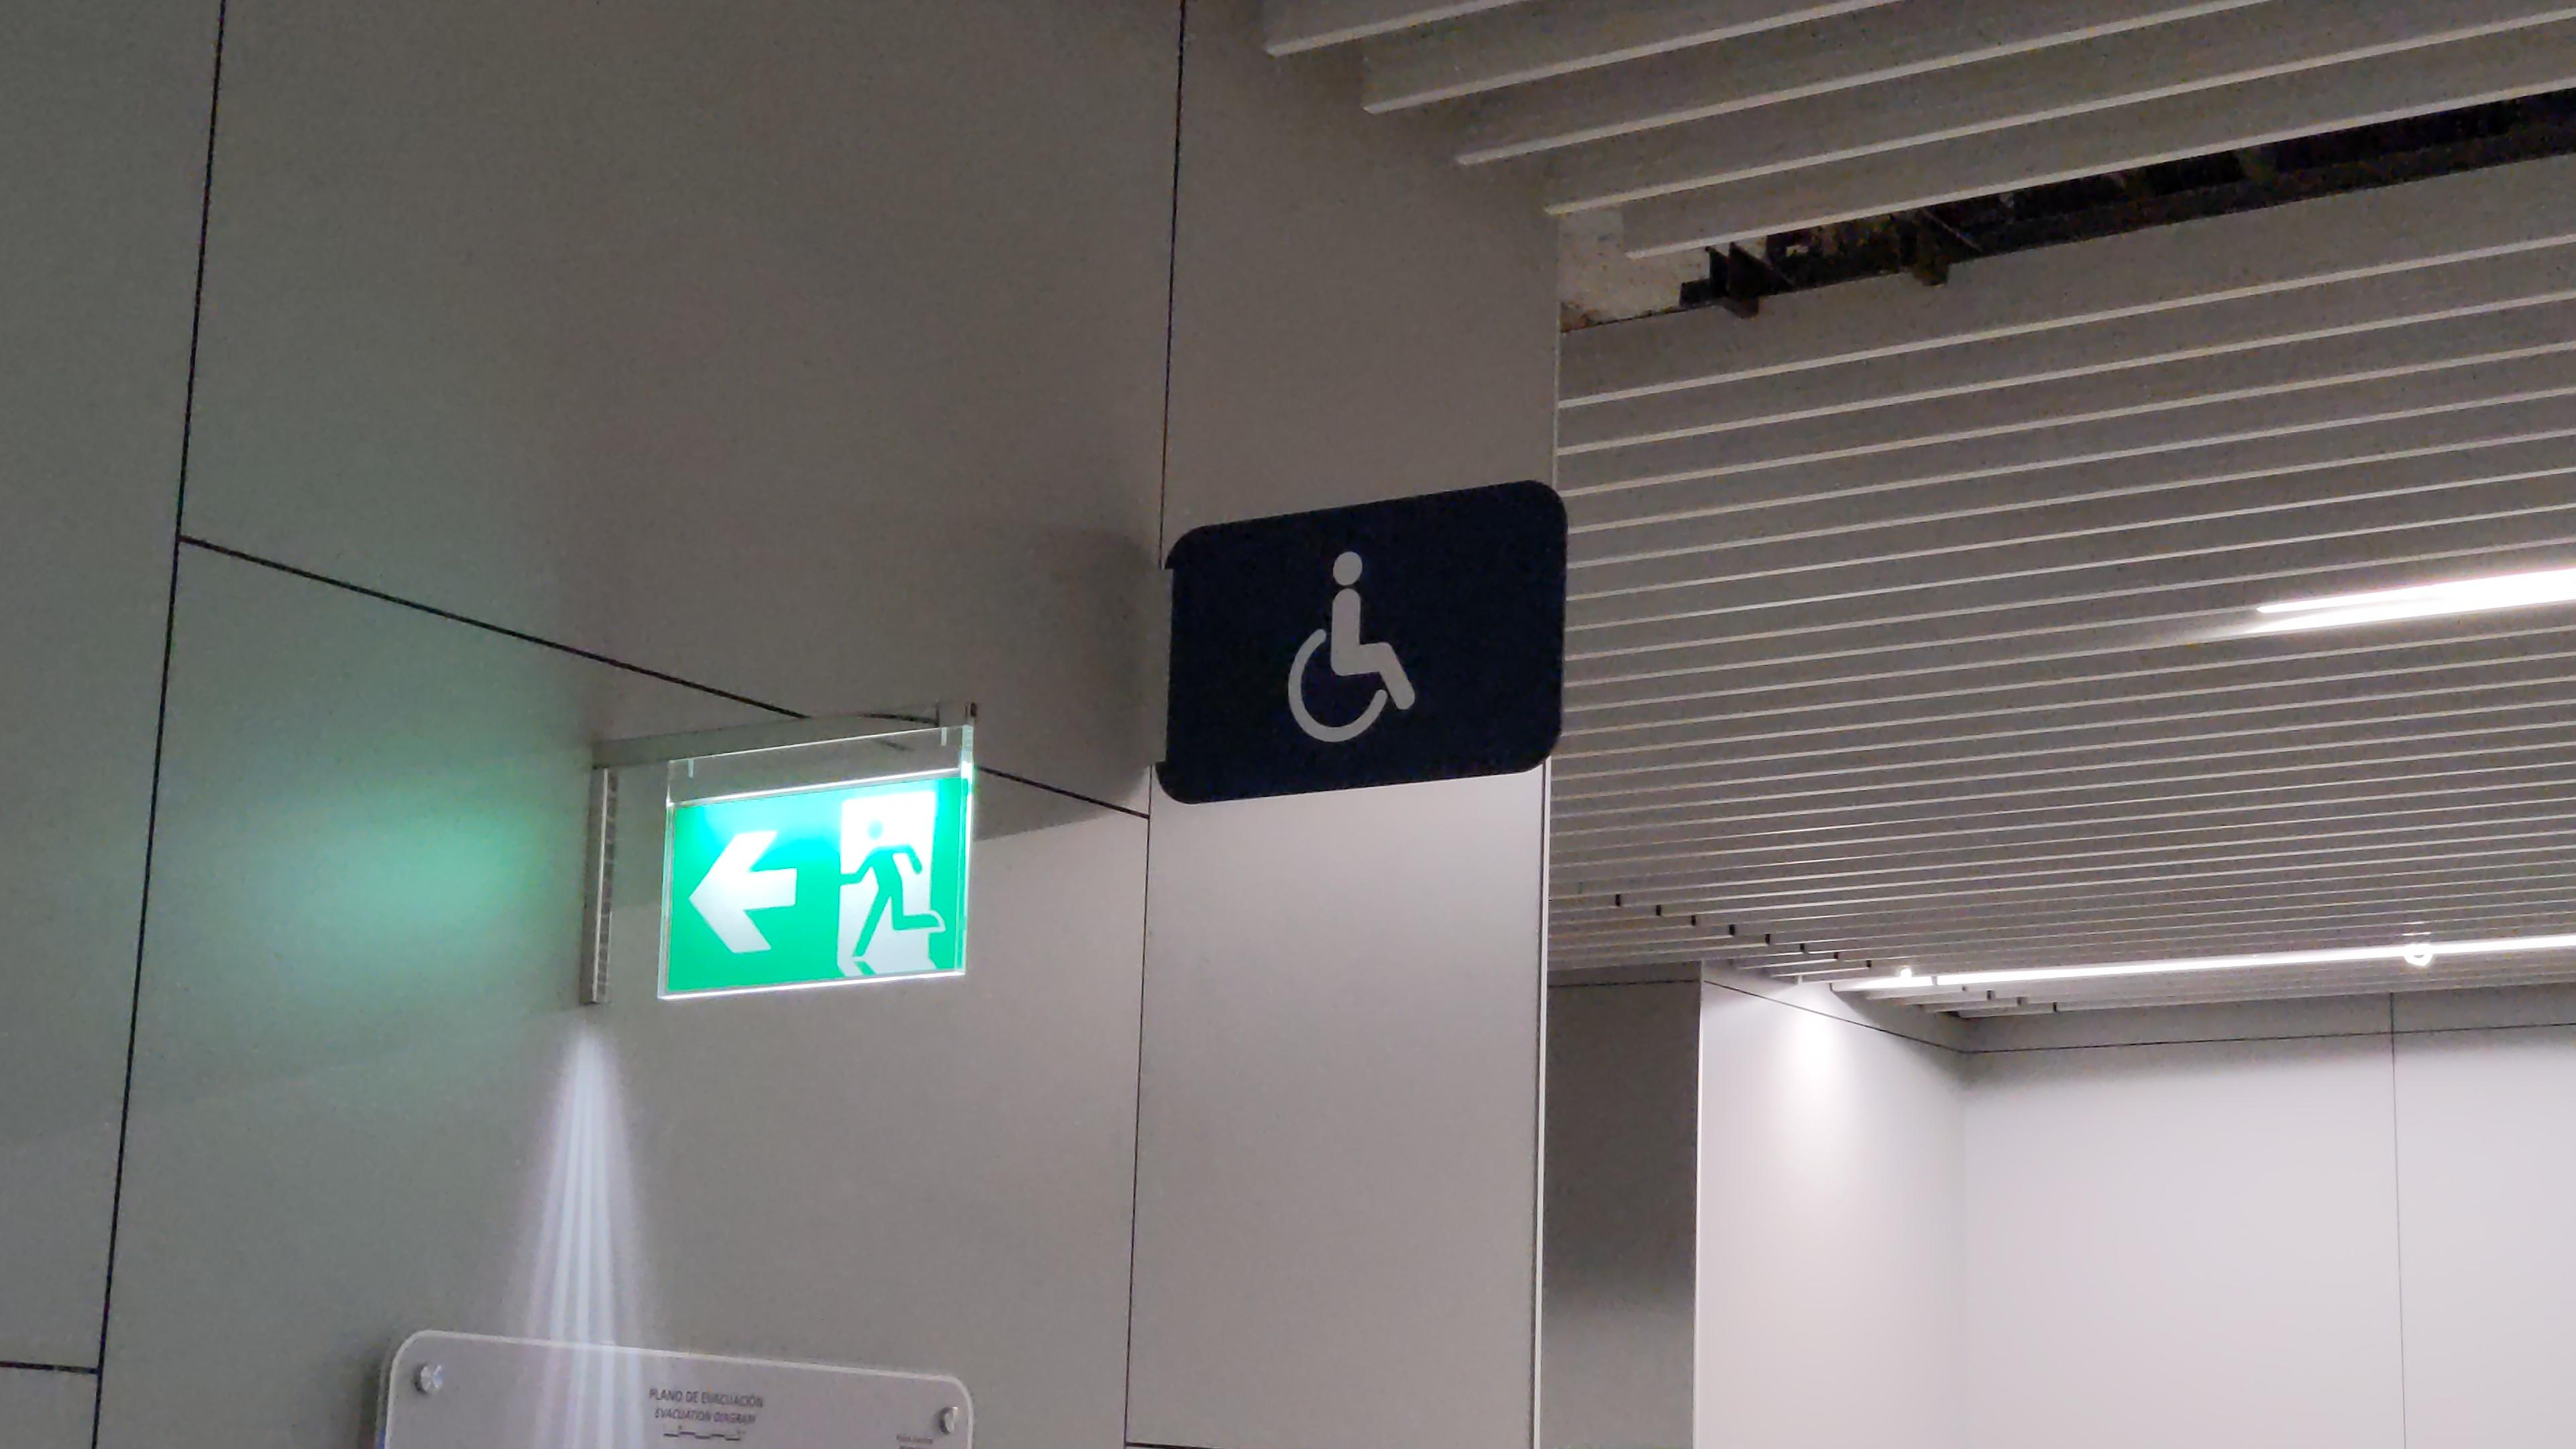emergency exit: (830, 786, 948, 978)
emergency left arrow: (685, 823, 805, 968)
handicapped symbol: (1274, 545, 1428, 752)
